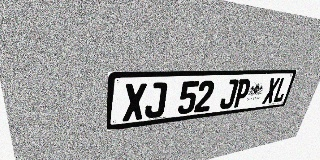2: (194, 80, 215, 113)
5: (177, 81, 199, 115)
J: (144, 82, 168, 119), (219, 79, 239, 109)
L: (272, 77, 290, 103)
P: (232, 79, 252, 108)
X: (123, 83, 147, 122), (262, 77, 281, 104)
